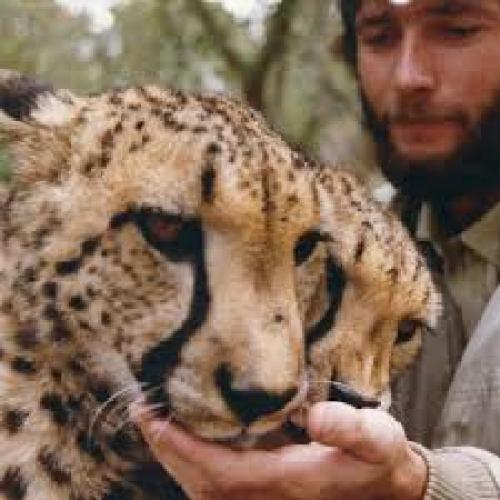cheetah-endangered: (0, 74, 331, 500), (258, 161, 445, 442)
